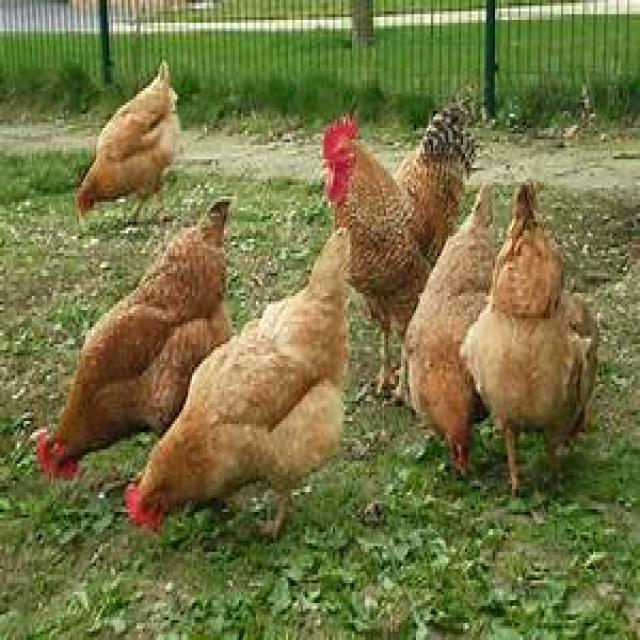hen: (125, 228, 350, 534), (36, 200, 229, 478), (461, 182, 598, 494), (324, 105, 475, 388), (405, 185, 495, 472), (76, 62, 178, 216)
